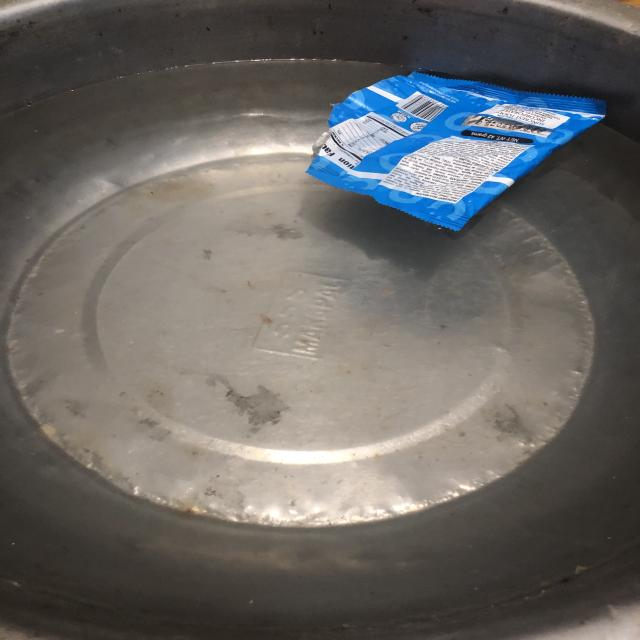Plastic Wrapper: (277, 56, 633, 250)
